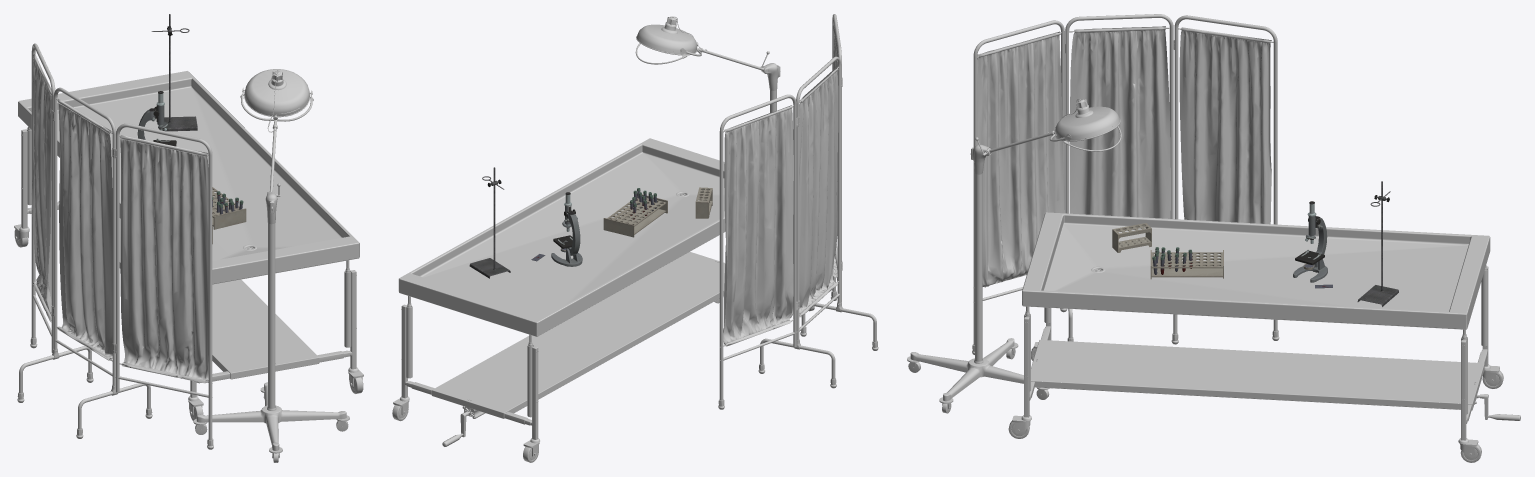
File: Med Lab Assets.fbx
3 renders of one model, left to right at view 1: azimuth 30°, elevation 25°; view 2: azimuth 150°, elevation 25°; view 3: azimuth 270°, elevation 25°, orthographic. The views are drawn at different scales.
Parts seen in each view (by area): view 1: DissectionTable_Main_20, MedicalPartition_Curtain01_2, MedicalPartition_Curtain00_6, MedicalPartition_Curtain02_0, MedicalPartition_Side_01_3, MedicalPartition_Main_4, DissectionTable_Legs_16, MedicalLight_Shade_9, MedicalLight_Legs_13, MedicalPartition_Side_1, MedicalLight_Stand_12, MedicalPartition_Main_Legs_5 (+5 smaller); view 2: DissectionTable_Main_20, MedicalPartition_Curtain02_0, MedicalPartition_Curtain00_6, MedicalPartition_Side_1, DissectionTable_Legs_16, MedicalPartition_Main_4, MedicalLight_Shade_9, VialHolder_Short_33, MedicalPartition_Main_Legs_5, LabTripod_Base_37, MedicalPartition_Side_01_3, VialHolder_Tall_34; view 3: DissectionTable_Main_20, MedicalPartition_Curtain01_2, MedicalPartition_Curtain00_6, MedicalPartition_Curtain02_0, DissectionTable_Legs_16, MedicalLight_Legs_13, MedicalPartition_Side_1, MedicalPartition_Main_4, MedicalLight_Stand_12, MedicalPartition_Side_01_3, MedicalLight_Shade_9, VialHolder_Short_33 (+4 smaller).
Boxes of the visible parts, x1=… form: DissectionTable_Main_20: x1=18, y1=71, x2=359, y2=379; MedicalPartition_Curtain01_2: x1=120, y1=135, x2=208, y2=383; MedicalPartition_Curtain00_6: x1=57, y1=98, x2=112, y2=360; MedicalPartition_Curtain02_0: x1=31, y1=54, x2=51, y2=322; MedicalPartition_Side_01_3: x1=114, y1=123, x2=213, y2=449; MedicalPartition_Main_4: x1=51, y1=87, x2=118, y2=395; DissectionTable_Legs_16: x1=19, y1=127, x2=358, y2=401; MedicalLight_Shade_9: x1=244, y1=69, x2=310, y2=120; MedicalLight_Legs_13: x1=193, y1=382, x2=349, y2=462; MedicalPartition_Side_1: x1=30, y1=43, x2=55, y2=353; MedicalLight_Stand_12: x1=265, y1=192, x2=277, y2=410; MedicalPartition_Main_Legs_5: x1=17, y1=346, x2=152, y2=438; DissectionTable_Main_20: x1=398, y1=138, x2=725, y2=418; MedicalPartition_Curtain02_0: x1=723, y1=105, x2=793, y2=346; MedicalPartition_Curtain00_6: x1=792, y1=67, x2=838, y2=317; MedicalPartition_Side_1: x1=718, y1=94, x2=798, y2=409; DissectionTable_Legs_16: x1=400, y1=261, x2=719, y2=443; MedicalPartition_Main_4: x1=794, y1=56, x2=842, y2=349; MedicalLight_Shade_9: x1=636, y1=16, x2=698, y2=55; VialHolder_Short_33: x1=603, y1=194, x2=667, y2=237; MedicalPartition_Main_Legs_5: x1=758, y1=303, x2=878, y2=388; LabTripod_Base_37: x1=469, y1=167, x2=510, y2=278; MedicalPartition_Side_01_3: x1=831, y1=14, x2=842, y2=305; VialHolder_Tall_34: x1=695, y1=187, x2=712, y2=218; DissectionTable_Main_20: x1=1022, y1=212, x2=1490, y2=410; MedicalPartition_Curtain01_2: x1=977, y1=31, x2=1064, y2=287; MedicalPartition_Curtain00_6: x1=1069, y1=26, x2=1170, y2=218; MedicalPartition_Curtain02_0: x1=1179, y1=27, x2=1271, y2=224; DissectionTable_Legs_16: x1=1021, y1=265, x2=1490, y2=443; MedicalLight_Legs_13: x1=907, y1=338, x2=1049, y2=413; MedicalPartition_Side_1: x1=1174, y1=15, x2=1279, y2=340; MedicalPartition_Main_4: x1=1065, y1=14, x2=1174, y2=218; MedicalLight_Stand_12: x1=970, y1=144, x2=991, y2=363; MedicalPartition_Side_01_3: x1=972, y1=20, x2=1064, y2=354; MedicalLight_Shade_9: x1=1055, y1=99, x2=1120, y2=141; VialHolder_Short_33: x1=1150, y1=250, x2=1223, y2=279.
Size of the model in its own units: 179 by 166 by 294.
